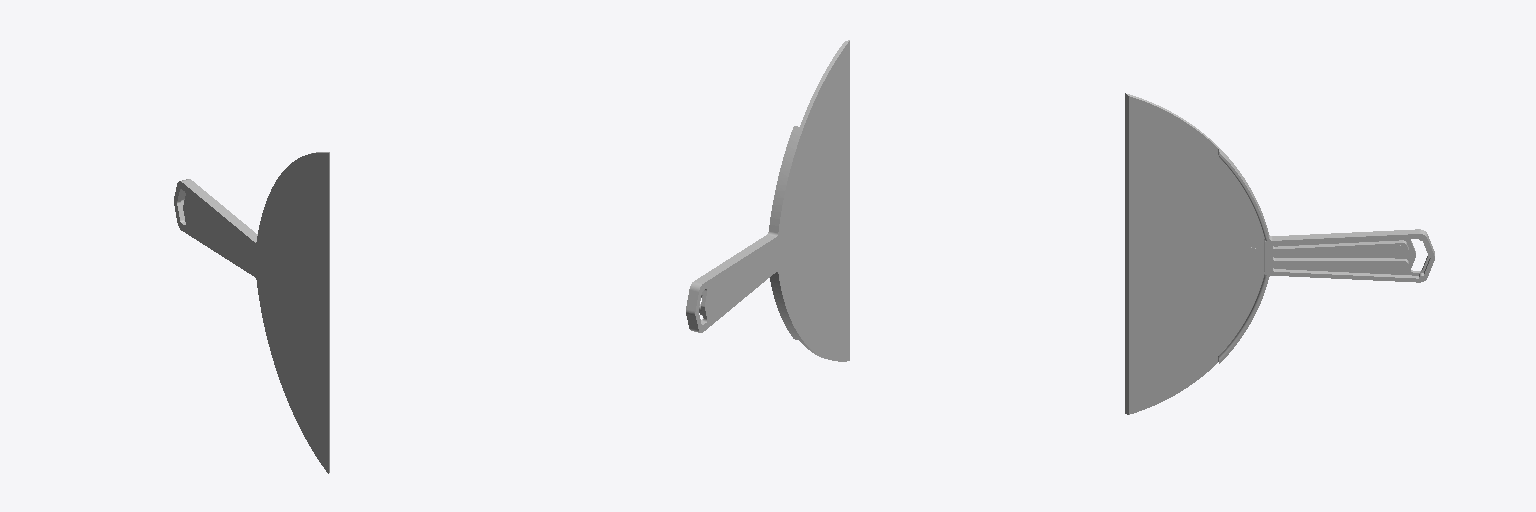
3 views of the same model, side by side, from view 1: azimuth 30°, elevation 25°; view 2: azimuth 150°, elevation 25°; view 3: azimuth 270°, elevation 25° (orthographic).
Parts seen in each view (by area): view 1: Fillet14; view 2: Fillet14; view 3: Fillet14.
Boxes of the visible parts, box(x1,y1,x2,y2) form: Fillet14: box(174, 152, 329, 473); Fillet14: box(686, 40, 849, 361); Fillet14: box(1125, 93, 1434, 414).
Size of the model in its own units: 0.251 by 8 by 7.